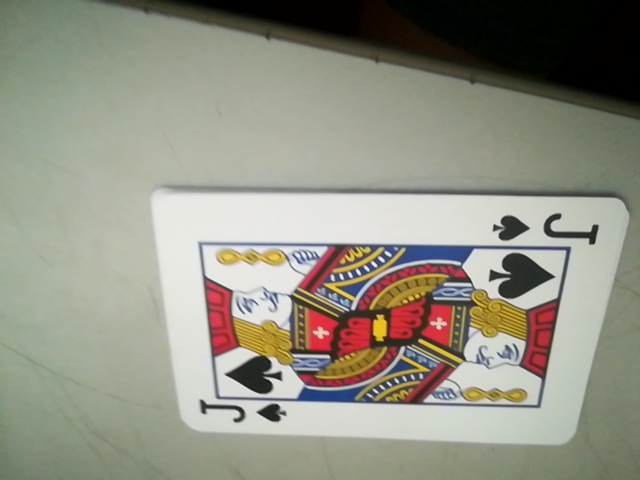ht j: (488, 208, 603, 248), (190, 394, 292, 433)
